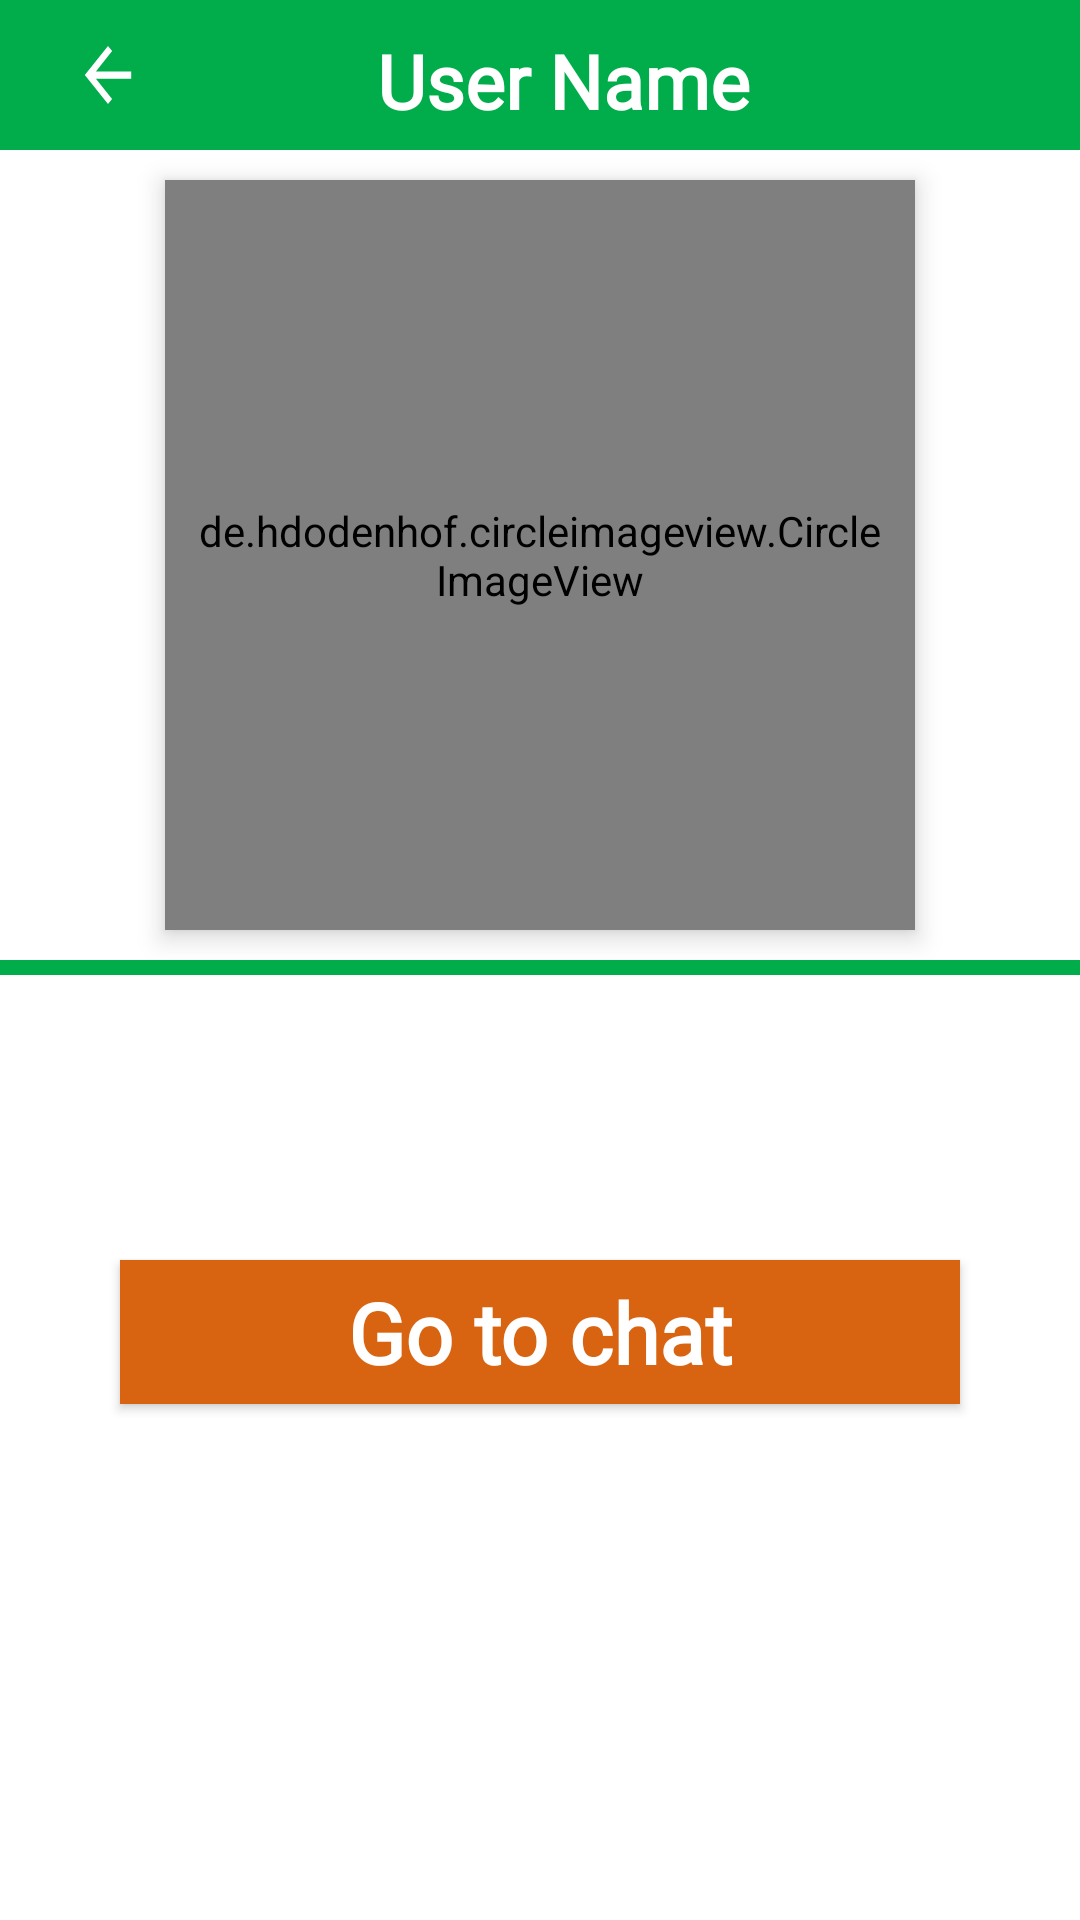

Icon bounding boxes for this 1080*1920 phone screenshot, format {"left": x1, "top": y1, "right": x2, "bottom": y2}:
back: {"left": 85, "top": 46, "right": 132, "bottom": 104}
